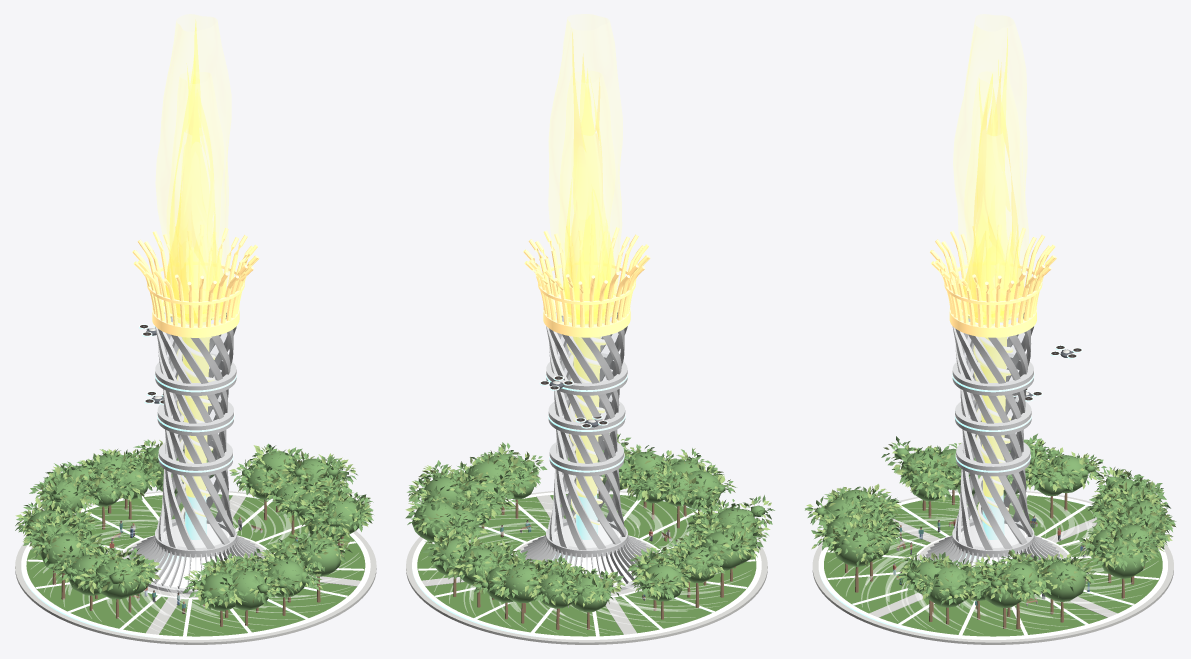
Rendered from q05a-reverse-ac-2127.glb.
3 renders of one model, left to right at view 1: azimuth 30°, elevation 25°; view 2: azimuth 150°, elevation 25°; view 3: azimuth 270°, elevation 25°, orthographic.
Visible parts, largest first — view 1: q05a_green, q05a_plume, q05a_silver, q05a_lawn, q05a_leaf_l, q05a_flame, q05a_gold, q05a_seam, q05a_plinth, q05a_core, q05a_flow, q05a_ice (+3 smaller); view 2: q05a_green, q05a_plume, q05a_silver, q05a_lawn, q05a_leaf_l, q05a_flame, q05a_gold, q05a_plinth, q05a_seam, q05a_core, q05a_flow, q05a_ice (+3 smaller); view 3: q05a_green, q05a_plume, q05a_lawn, q05a_silver, q05a_leaf_l, q05a_flame, q05a_gold, q05a_plinth, q05a_seam, q05a_flow, q05a_core, q05a_ice (+3 smaller).
Part boxes in pixels (left/top/right/bottom): q05a_green: left=15, top=439, right=373, bottom=610; q05a_plume: left=155, top=14, right=231, bottom=313; q05a_silver: left=126, top=312, right=264, bottom=594; q05a_lawn: left=26, top=494, right=365, bottom=636; q05a_leaf_l: left=15, top=440, right=372, bottom=608; q05a_flame: left=163, top=20, right=228, bottom=324; q05a_gold: left=132, top=225, right=259, bottom=337; q05a_seam: left=21, top=491, right=370, bottom=639; q05a_plinth: left=15, top=490, right=376, bottom=644; q05a_core: left=165, top=316, right=226, bottom=547; q05a_flow: left=31, top=496, right=360, bottom=633; q05a_ice: left=139, top=324, right=236, bottom=588; q05a_green: left=405, top=433, right=774, bottom=612; q05a_plume: left=548, top=14, right=622, bottom=311; q05a_silver: left=518, top=312, right=653, bottom=592; q05a_lawn: left=417, top=493, right=756, bottom=636; q05a_leaf_l: left=405, top=434, right=771, bottom=606; q05a_flame: left=563, top=33, right=614, bottom=324; q05a_gold: left=523, top=226, right=650, bottom=337; q05a_plinth: left=406, top=489, right=767, bottom=644; q05a_seam: left=412, top=491, right=761, bottom=639; q05a_core: left=555, top=316, right=617, bottom=547; q05a_flow: left=422, top=496, right=749, bottom=633; q05a_ice: left=539, top=370, right=636, bottom=586; q05a_green: left=805, top=433, right=1176, bottom=608; q05a_plume: left=953, top=14, right=1028, bottom=314; q05a_lawn: left=824, top=494, right=1162, bottom=636; q05a_silver: left=923, top=313, right=1062, bottom=567; q05a_leaf_l: left=806, top=440, right=1175, bottom=604; q05a_flame: left=960, top=36, right=1025, bottom=324; q05a_gold: left=930, top=225, right=1056, bottom=337; q05a_plinth: left=812, top=491, right=1173, bottom=644; q05a_seam: left=818, top=492, right=1167, bottom=639; q05a_flow: left=828, top=496, right=1157, bottom=632; q05a_core: left=962, top=318, right=1024, bottom=547; q05a_ice: left=952, top=345, right=1082, bottom=568.
Size of the model in its own units: 50.38 by 80 by 49.46.
